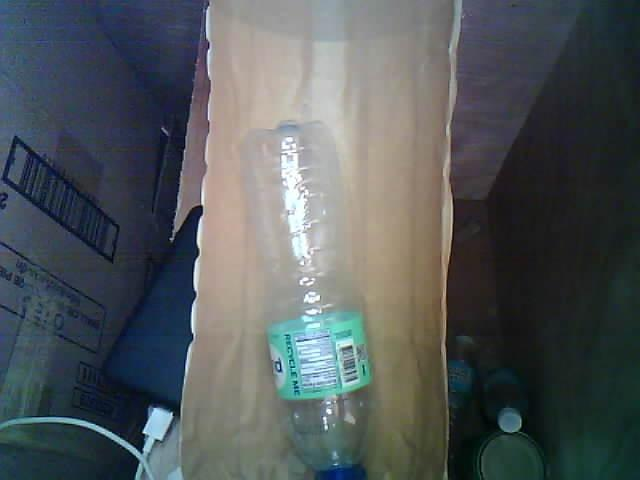small_bottle: (232, 110, 374, 480)
